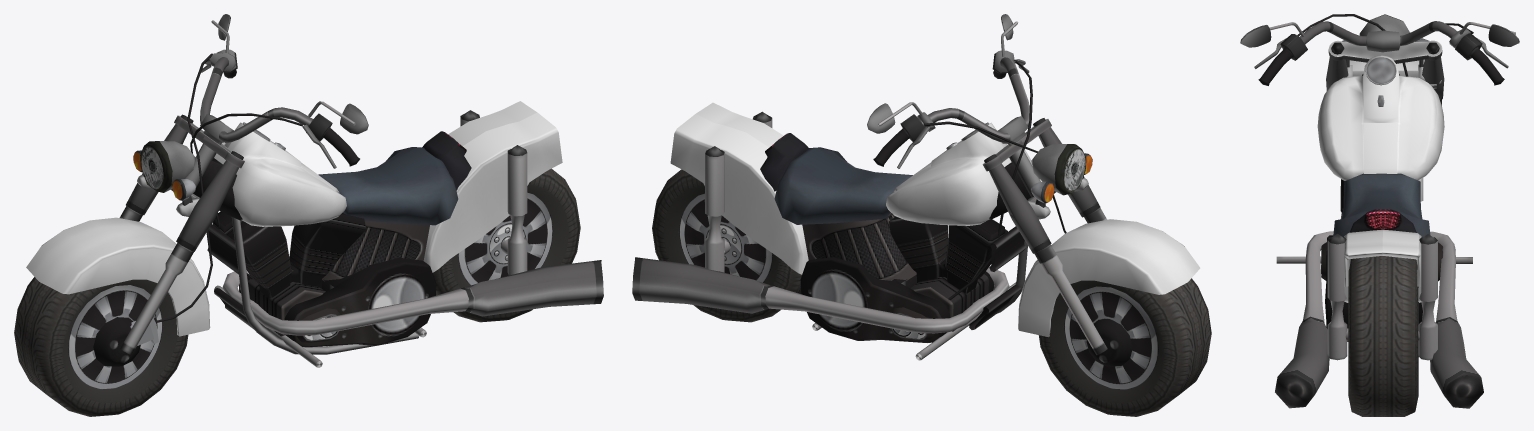
File: Bike_1_Old.fbx
3 renders of one model, left to right at view 1: azimuth 30°, elevation 25°; view 2: azimuth 150°, elevation 25°; view 3: azimuth 270°, elevation 25°, orthographic. The views are drawn at different scales.
Visible parts, largest first — view 1: Body, Steer_Handle, FrontWheel, BackWheel; view 2: Body, Steer_Handle, FrontWheel, BackWheel; view 3: Body, BackWheel, Steer_Handle.
Part boxes in pixels (x1,y1,x2,y2): Body: (193, 101, 603, 367); Steer_Handle: (26, 14, 368, 366); FrontWheel: (14, 277, 188, 416); BackWheel: (432, 168, 580, 322); Body: (632, 102, 1031, 360); Steer_Handle: (867, 14, 1200, 366); FrontWheel: (1038, 278, 1211, 416); BackWheel: (652, 169, 801, 322); Body: (1275, 55, 1483, 408); BackWheel: (1348, 256, 1418, 416); Steer_Handle: (1240, 14, 1519, 201).
Size of the model in its own units: 5.75 by 3.08 by 2.69.
2 materials, 2 textured.
